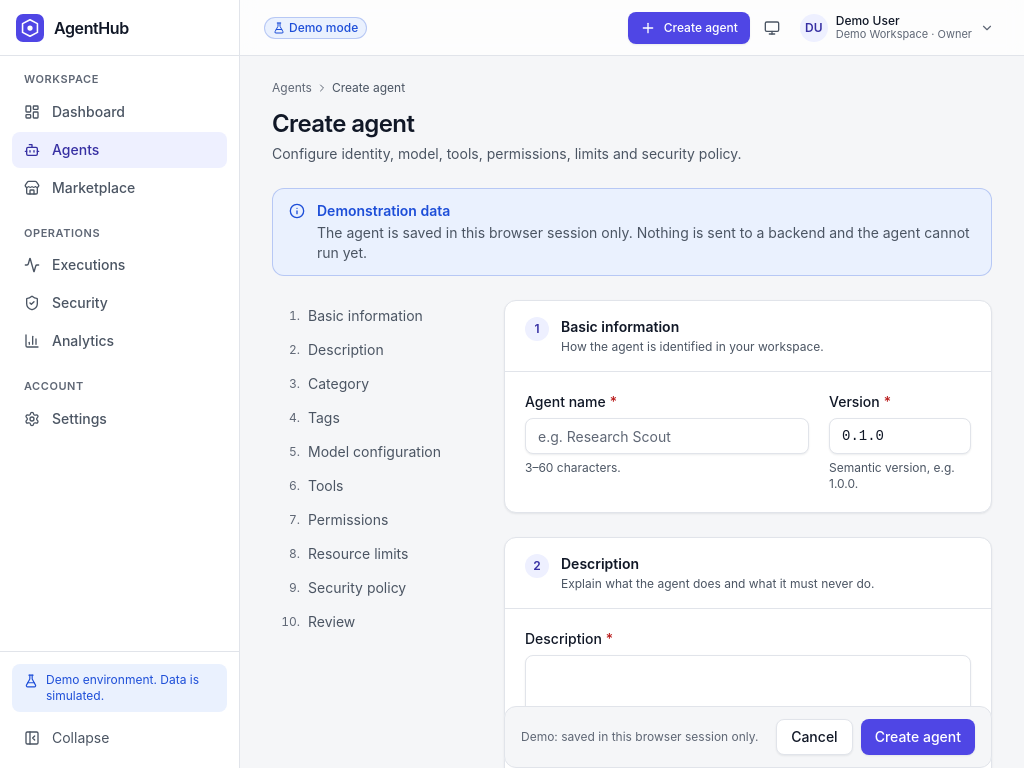
Test: create agent form › reports required fields when submitted empty
Check: the heading "Create agent" is shown, box [272,109,414,138]
What coordinates should you click on to do the following:
click the button "Create agent"
I would click on:
 (918, 737)
Its box is [861,719,975,755].
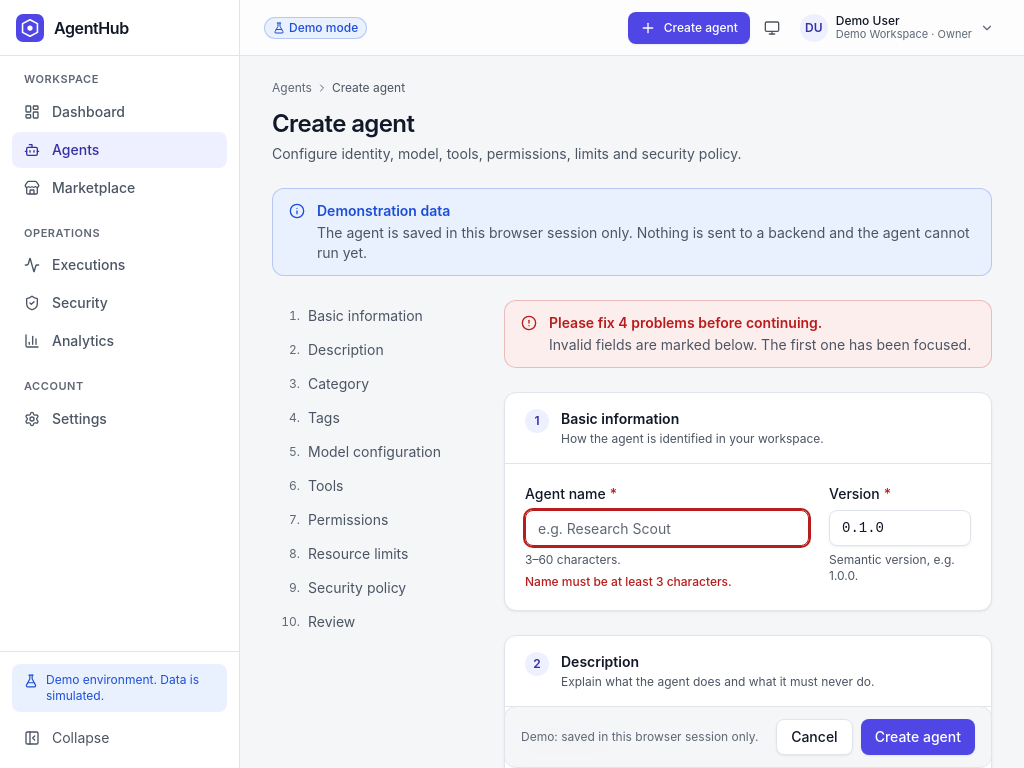
Check: the text "Name must be at least 3 characters." is shown, box [525,574,732,589]
